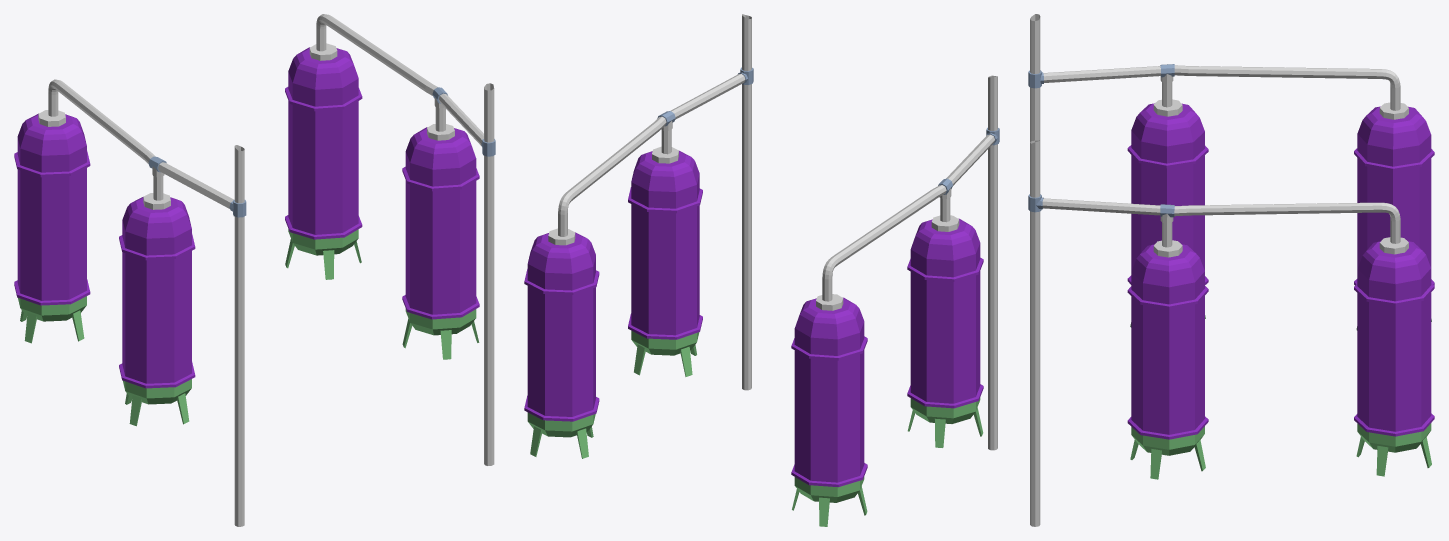
Rendered from chem_tank.fbx.
3 views of the same model, side by side, from view 1: azimuth 30°, elevation 25°; view 2: azimuth 150°, elevation 25°; view 3: azimuth 270°, elevation 25° (orthographic). The views are drawn at different scales.
Parts seen in each view (by area): view 1: refinery tank pipes t3; view 2: refinery tank pipes t3; view 3: refinery tank pipes t3.
Boxes of the visible parts, x1,y1,x2,y2 form: refinery tank pipes t3: (14,14,495,526); refinery tank pipes t3: (524,14,999,526); refinery tank pipes t3: (1028,14,1434,526).
Size of the model in its own units: 948 by 973 by 930.
